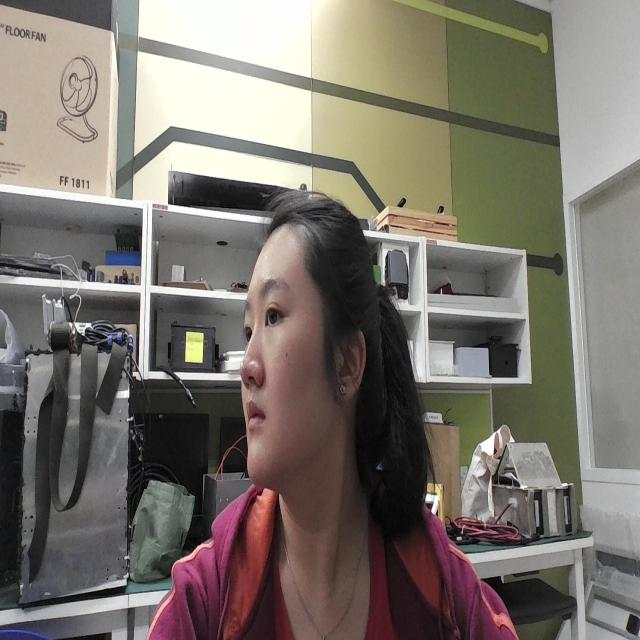Without Helmet: (225, 168, 438, 560)
